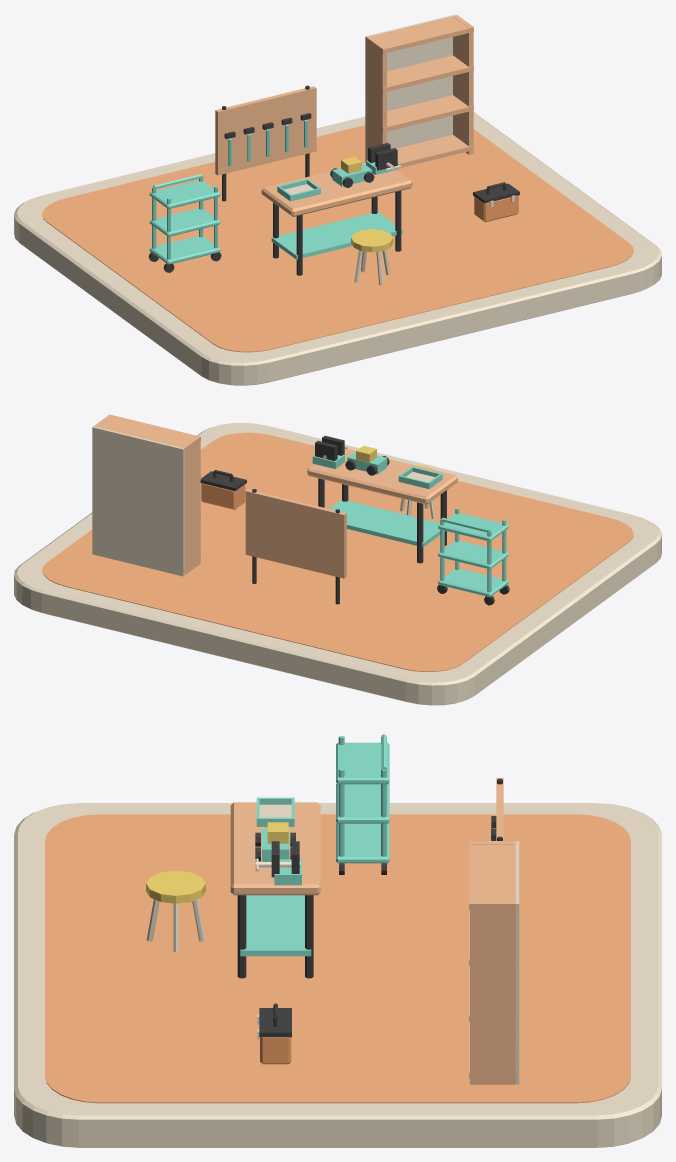
The model's file is room.fbx.
The picture shows the model from 3 angles, top to bottom: view 1: azimuth 30°, elevation 25°; view 2: azimuth 150°, elevation 25°; view 3: azimuth 270°, elevation 25°; orthographic projection. The views are drawn at different scales.
Visible parts, largest first — view 1: COM-02 Floor Surface, COM-01 Rounded Base Direct, Peg board, Back, Worktop, Lower shelf, Side, Side.001, Shelf.003, Shelf.002, Shelf.001, Shelf (+5 smaller); view 2: COM-02 Floor Surface, COM-01 Rounded Base Direct, Back, Peg board, Worktop, Lower shelf, Side, Shelf.003, Tray.001, Tray, Tray.002, Box (+1 smaller); view 3: COM-02 Floor Surface, COM-01 Rounded Base Direct, Side.001, Worktop, Lower shelf, Shelf.003, Tray.002, Tray, Tray.001, Seat, Back, Lid (+3 smaller).
Part boxes in pixels (<box>): COM-02 Floor Surface: <box>42,125,633,352</box>; COM-01 Rounded Base Direct: <box>14,112,661,385</box>; Peg board: <box>215,86,316,175</box>; Back: <box>365,14,456,162</box>; Worktop: <box>261,162,412,216</box>; Lower shelf: <box>271,212,402,259</box>; Side: <box>366,36,386,159</box>; Side.001: <box>453,15,473,154</box>; Shelf.003: <box>365,16,473,53</box>; Shelf.002: <box>365,55,473,92</box>; Shelf.001: <box>365,95,473,132</box>; Shelf: <box>366,135,473,168</box>; COM-02 Floor Surface: <box>42,432,633,671</box>; COM-01 Rounded Base Direct: <box>14,423,661,705</box>; Back: <box>92,426,184,576</box>; Peg board: <box>245,489,346,578</box>; Worktop: <box>307,448,457,504</box>; Lower shelf: <box>329,499,445,547</box>; Side: <box>180,436,200,574</box>; Shelf.003: <box>98,414,200,452</box>; Tray.001: <box>438,540,508,569</box>; Tray: <box>438,568,508,597</box>; Tray.002: <box>438,513,508,541</box>; Box: <box>201,483,245,509</box>; COM-02 Floor Surface: <box>45,814,630,1103</box>; COM-01 Rounded Base Direct: <box>14,803,661,1147</box>; Side.001: <box>470,901,517,1084</box>; Worktop: <box>230,802,320,895</box>; Lower shelf: <box>240,895,311,956</box>; Shelf.003: <box>469,841,518,910</box>; Tray.002: <box>336,742,389,784</box>; Tray: <box>336,823,389,863</box>; Tray.001: <box>336,783,389,823</box>; Seat: <box>146,870,205,903</box>; Back: <box>515,841,519,1084</box>; Lid: <box>259,1008,291,1037</box>.
Bounding box in the file's own units: 600 × 190 × 520.
